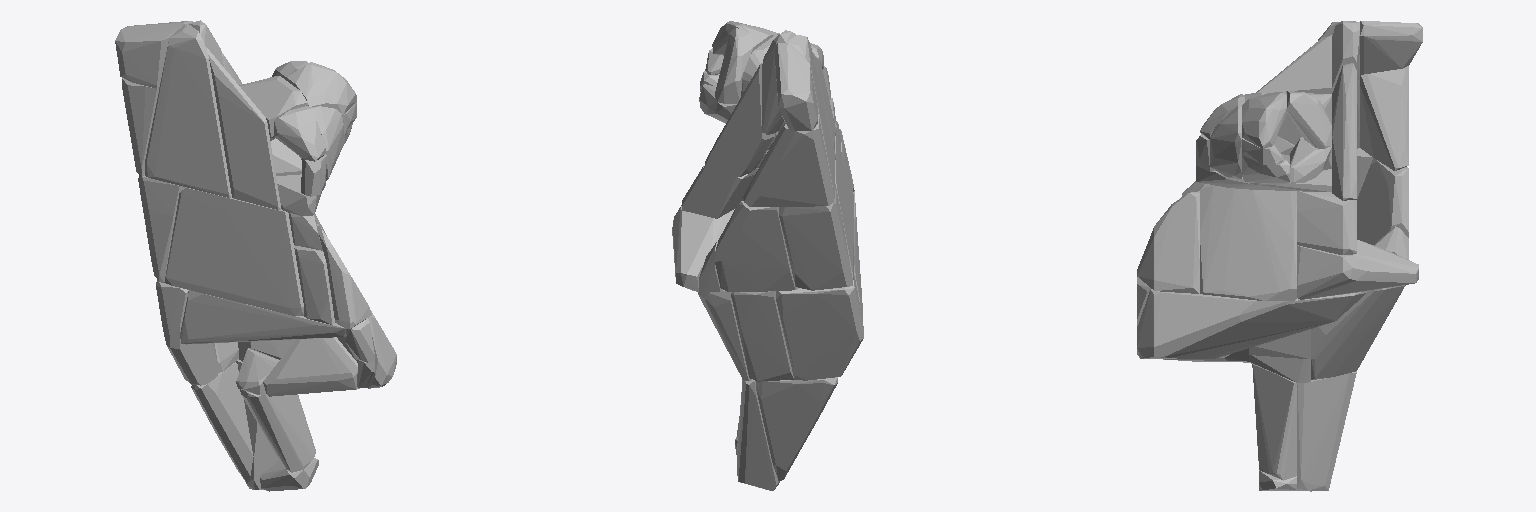
--- Facts derived from the render (not from the file) ---
Views: 3 orthographic renders of the robot side by side, from view 1: azimuth 30°, elevation 25°; view 2: azimuth 150°, elevation 25°; view 3: azimuth 270°, elevation 25°.
Robot: root — 42 links, 41 joints (41 fixed); root link link_nozzle_vhacd_convex_0; default pose: all joints at 0.
Visible links, largest first — view 1: link_nozzle_vhacd_convex_10, link_nozzle_vhacd_convex_6, link_nozzle_vhacd_convex_16, link_nozzle_vhacd_convex_20, link_nozzle_vhacd_convex_19, link_nozzle_vhacd_convex_2, link_nozzle_vhacd_convex_1, link_nozzle_vhacd_convex_8, link_nozzle_vhacd_convex_22, link_nozzle_vhacd_convex_11, link_nozzle_vhacd_convex_13, link_nozzle_vhacd_convex_23 (+16 smaller); view 2: link_nozzle_vhacd_convex_22, link_nozzle_vhacd_convex_12, link_nozzle_vhacd_convex_7, link_nozzle_vhacd_convex_11, link_nozzle_vhacd_convex_2, link_nozzle_vhacd_convex_32, link_nozzle_vhacd_convex_5, link_nozzle_vhacd_convex_3, link_nozzle_vhacd_convex_8, link_nozzle_vhacd_convex_26, link_nozzle_vhacd_convex_15, link_nozzle_vhacd_convex_40 (+8 smaller); view 3: link_nozzle_vhacd_convex_14, link_nozzle_vhacd_convex_4, link_nozzle_vhacd_convex_3, link_nozzle_vhacd_convex_26, link_nozzle_vhacd_convex_13, link_nozzle_vhacd_convex_33, link_nozzle_vhacd_convex_7, link_nozzle_vhacd_convex_1, link_nozzle_vhacd_convex_12, link_nozzle_vhacd_convex_15, link_nozzle_vhacd_convex_5, link_nozzle_vhacd_convex_8 (+15 smaller).
Link boxes in pixels (bbox=[...]): link_nozzle_vhacd_convex_10: bbox=[164, 188, 303, 315]; link_nozzle_vhacd_convex_6: bbox=[145, 24, 231, 197]; link_nozzle_vhacd_convex_16: bbox=[205, 46, 280, 209]; link_nozzle_vhacd_convex_20: bbox=[180, 290, 346, 344]; link_nozzle_vhacd_convex_19: bbox=[263, 337, 359, 396]; link_nozzle_vhacd_convex_2: bbox=[191, 362, 253, 482]; link_nozzle_vhacd_convex_1: bbox=[240, 389, 315, 472]; link_nozzle_vhacd_convex_8: bbox=[115, 21, 192, 88]; link_nozzle_vhacd_convex_22: bbox=[156, 280, 218, 385]; link_nozzle_vhacd_convex_11: bbox=[138, 174, 186, 282]; link_nozzle_vhacd_convex_13: bbox=[316, 224, 371, 328]; link_nozzle_vhacd_convex_23: bbox=[294, 245, 334, 324]; link_nozzle_vhacd_convex_22: bbox=[776, 275, 863, 380]; link_nozzle_vhacd_convex_12: bbox=[715, 201, 797, 291]; link_nozzle_vhacd_convex_7: bbox=[743, 113, 833, 206]; link_nozzle_vhacd_convex_11: bbox=[779, 184, 852, 290]; link_nozzle_vhacd_convex_2: bbox=[756, 377, 837, 480]; link_nozzle_vhacd_convex_32: bbox=[731, 291, 793, 381]; link_nozzle_vhacd_convex_5: bbox=[704, 63, 774, 176]; link_nozzle_vhacd_convex_3: bbox=[737, 379, 779, 490]; link_nozzle_vhacd_convex_8: bbox=[775, 43, 817, 130]; link_nozzle_vhacd_convex_26: bbox=[672, 205, 734, 291]; link_nozzle_vhacd_convex_15: bbox=[682, 166, 758, 218]; link_nozzle_vhacd_convex_40: bbox=[715, 28, 760, 103]; link_nozzle_vhacd_convex_14: bbox=[1200, 184, 1296, 300]; link_nozzle_vhacd_convex_4: bbox=[1137, 289, 1366, 358]; link_nozzle_vhacd_convex_3: bbox=[1297, 371, 1356, 491]; link_nozzle_vhacd_convex_26: bbox=[1297, 240, 1418, 299]; link_nozzle_vhacd_convex_13: bbox=[1137, 191, 1199, 293]; link_nozzle_vhacd_convex_33: bbox=[1311, 285, 1405, 379]; link_nozzle_vhacd_convex_7: bbox=[1360, 66, 1408, 170]; link_nozzle_vhacd_convex_1: bbox=[1252, 364, 1296, 480]; link_nozzle_vhacd_convex_12: bbox=[1357, 158, 1408, 244]; link_nozzle_vhacd_convex_15: bbox=[1297, 191, 1356, 254]; link_nozzle_vhacd_convex_5: bbox=[1332, 63, 1356, 200]; link_nozzle_vhacd_convex_8: bbox=[1360, 21, 1422, 74].
Bounding box of the posed robot: 0.0462 × 0.0701 × 0.1223 m (x, y, z).
42 mesh visuals loaded from 42 distinct referenced files (42 OBJ).

URDF robot description (root):
<robot name="root"><link name="link_nozzle_vhacd_convex_0"><inertial><origin rpy="0 0 0" xyz="0 0 0" /><mass value="1.92E-07" /><inertia ixx="5.93E-10" ixy="-2.20E-13" ixz="7.51E-11" iyy="6.03E-10" iyz="3.66E-12" izz="1.24E-11" /></inertial><visual><origin rpy="0 0 0" xyz="0 0 0" /><geometry><mesh filename="package://nozzle/nozzle_vhacd_convex_0.obj" /></geometry><material name=""><color rgba="0.75 0.75 0.75 1" /></material></visual><collision><origin rpy="0 0 0" xyz="0 0 0" /><geometry><mesh filename="package://nozzle/nozzle_vhacd_convex_0.obj" /></geometry></collision></link><link name="link_nozzle_vhacd_convex_1"><inertial><origin rpy="0 0 0" xyz="0 0 0" /><mass value="9.36E-07" /><inertia ixx="1.54E-09" ixy="-3.84E-12" ixz="1.42E-10" iyy="1.56E-09" iyz="-1.34E-11" izz="3.57E-11" /></inertial><visual><origin rpy="0 0 0" xyz="0 0 0" /><geometry><mesh filename="package://nozzle/nozzle_vhacd_convex_1.obj" /></geometry><material name=""><color rgba="0.75 0.75 0.75 1" /></material></visual><collision><origin rpy="0 0 0" xyz="0 0 0" /><geometry><mesh filename="package://nozzle/nozzle_vhacd_convex_1.obj" /></geometry></collision></link><joint name="link_nozzle_vhacd_convex_1_joint" type="fixed"><origin rpy="0 0 0" xyz="0 0 0" /><parent link="link_nozzle_vhacd_convex_0" /><child link="link_nozzle_vhacd_convex_1" /></joint><link name="link_nozzle_vhacd_convex_2"><inertial><origin rpy="0 0 0" xyz="0 0 0" /><mass value="6.32E-07" /><inertia ixx="1.02E-09" ixy="3.33E-11" ixz="-1.45E-10" iyy="9.98E-10" iyz="2.14E-10" izz="8.87E-11" /></inertial><visual><origin rpy="0 0 0" xyz="0 0 0" /><geometry><mesh filename="package://nozzle/nozzle_vhacd_convex_2.obj" /></geometry><material name=""><color rgba="0.75 0.75 0.75 1" /></material></visual><collision><origin rpy="0 0 0" xyz="0 0 0" /><geometry><mesh filename="package://nozzle/nozzle_vhacd_convex_2.obj" /></geometry></collision></link><joint name="link_nozzle_vhacd_convex_2_joint" type="fixed"><origin rpy="0 0 0" xyz="0 0 0" /><parent link="link_nozzle_vhacd_convex_1" /><child link="link_nozzle_vhacd_convex_2" /></joint><link name="link_nozzle_vhacd_convex_3"><inertial><origin rpy="0 0 0" xyz="0 0 0" /><mass value="1.14E-06" /><inertia ixx="2.33E-09" ixy="-3.36E-11" ixz="1.79E-10" iyy="2.25E-09" iyz="4.42E-10" izz="1.29E-10" /></inertial><visual><origin rpy="0 0 0" xyz="0 0 0" /><geometry><mesh filename="package://nozzle/nozzle_vhacd_convex_3.obj" /></geometry><material name=""><color rgba="0.75 0.75 0.75 1" /></material></visual><collision><origin rpy="0 0 0" xyz="0 0 0" /><geometry><mesh filename="package://nozzle/nozzle_vhacd_convex_3.obj" /></geometry></collision></link><joint name="link_nozzle_vhacd_convex_3_joint" type="fixed"><origin rpy="0 0 0" xyz="0 0 0" /><parent link="link_nozzle_vhacd_convex_2" /><child link="link_nozzle_vhacd_convex_3" /></joint><link name="link_nozzle_vhacd_convex_4"><inertial><origin rpy="0 0 0" xyz="0 0 0" /><mass value="1.86E-06" /><inertia ixx="8.47E-10" ixy="3.40E-10" ixz="2.40E-10" iyy="5.54E-10" iyz="-2.97E-10" izz="9.62E-10" /></inertial><visual><origin rpy="0 0 0" xyz="0 0 0" /><geometry><mesh filename="package://nozzle/nozzle_vhacd_convex_4.obj" /></geometry><material name=""><color rgba="0.75 0.75 0.75 1" /></material></visual><collision><origin rpy="0 0 0" xyz="0 0 0" /><geometry><mesh filename="package://nozzle/nozzle_vhacd_convex_4.obj" /></geometry></collision></link><joint name="link_nozzle_vhacd_convex_4_joint" type="fixed"><origin rpy="0 0 0" xyz="0 0 0" /><parent link="link_nozzle_vhacd_convex_3" /><child link="link_nozzle_vhacd_convex_4" /></joint><link name="link_nozzle_vhacd_convex_5"><inertial><origin rpy="0 0 0" xyz="0 0 0" /><mass value="5.53E-07" /><inertia ixx="7.90E-10" ixy="-1.98E-11" ixz="-3.11E-11" iyy="6.54E-10" iyz="-2.99E-10" izz="1.56E-10" /></inertial><visual><origin rpy="0 0 0" xyz="0 0 0" /><geometry><mesh filename="package://nozzle/nozzle_vhacd_convex_5.obj" /></geometry><material name=""><color rgba="0.75 0.75 0.75 1" /></material></visual><collision><origin rpy="0 0 0" xyz="0 0 0" /><geometry><mesh filename="package://nozzle/nozzle_vhacd_convex_5.obj" /></geometry></collision></link><joint name="link_nozzle_vhacd_convex_5_joint" type="fixed"><origin rpy="0 0 0" xyz="0 0 0" /><parent link="link_nozzle_vhacd_convex_4" /><child link="link_nozzle_vhacd_convex_5" /></joint><link name="link_nozzle_vhacd_convex_6"><inertial><origin rpy="0 0 0" xyz="0 0 0" /><mass value="1.13E-06" /><inertia ixx="1.94E-09" ixy="2.21E-10" ixz="5.98E-10" iyy="1.96E-09" iyz="-5.85E-10" izz="4.61E-10" /></inertial><visual><origin rpy="0 0 0" xyz="0 0 0" /><geometry><mesh filename="package://nozzle/nozzle_vhacd_convex_6.obj" /></geometry><material name=""><color rgba="0.75 0.75 0.75 1" /></material></visual><collision><origin rpy="0 0 0" xyz="0 0 0" /><geometry><mesh filename="package://nozzle/nozzle_vhacd_convex_6.obj" /></geometry></collision></link><joint name="link_nozzle_vhacd_convex_6_joint" type="fixed"><origin rpy="0 0 0" xyz="0 0 0" /><parent link="link_nozzle_vhacd_convex_5" /><child link="link_nozzle_vhacd_convex_6" /></joint><link name="link_nozzle_vhacd_convex_7"><inertial><origin rpy="0 0 0" xyz="0 0 0" /><mass value="1.11E-06" /><inertia ixx="2.03E-09" ixy="4.49E-10" ixz="6.05E-10" iyy="1.60E-09" iyz="-9.54E-10" izz="1.04E-09" /></inertial><visual><origin rpy="0 0 0" xyz="0 0 0" /><geometry><mesh filename="package://nozzle/nozzle_vhacd_convex_7.obj" /></geometry><material name=""><color rgba="0.75 0.75 0.75 1" /></material></visual><collision><origin rpy="0 0 0" xyz="0 0 0" /><geometry><mesh filename="package://nozzle/nozzle_vhacd_convex_7.obj" /></geometry></collision></link><joint name="link_nozzle_vhacd_convex_7_joint" type="fixed"><origin rpy="0 0 0" xyz="0 0 0" /><parent link="link_nozzle_vhacd_convex_6" /><child link="link_nozzle_vhacd_convex_7" /></joint><link name="link_nozzle_vhacd_convex_8"><inertial><origin rpy="0 0 0" xyz="0 0 0" /><mass value="6.04E-07" /><inertia ixx="2.04E-09" ixy="2.68E-10" ixz="5.19E-10" iyy="1.79E-09" iyz="-8.14E-10" izz="5.97E-10" /></inertial><visual><origin rpy="0 0 0" xyz="0 0 0" /><geometry><mesh filename="package://nozzle/nozzle_vhacd_convex_8.obj" /></geometry><material name=""><color rgba="0.75 0.75 0.75 1" /></material></visual><collision><origin rpy="0 0 0" xyz="0 0 0" /><geometry><mesh filename="package://nozzle/nozzle_vhacd_convex_8.obj" /></geometry></collision></link><joint name="link_nozzle_vhacd_convex_8_joint" type="fixed"><origin rpy="0 0 0" xyz="0 0 0" /><parent link="link_nozzle_vhacd_convex_7" /><child link="link_nozzle_vhacd_convex_8" /></joint><link name="link_nozzle_vhacd_convex_9"><inertial><origin rpy="0 0 0" xyz="0 0 0" /><mass value="8.02E-07" /><inertia ixx="5.82E-10" ixy="3.15E-12" ixz="-6.39E-11" iyy="5.37E-10" iyz="5.87E-11" izz="8.17E-11" /></inertial><visual><origin rpy="0 0 0" xyz="0 0 0" /><geometry><mesh filename="package://nozzle/nozzle_vhacd_convex_9.obj" /></geometry><material name=""><color rgba="0.75 0.75 0.75 1" /></material></visual><collision><origin rpy="0 0 0" xyz="0 0 0" /><geometry><mesh filename="package://nozzle/nozzle_vhacd_convex_9.obj" /></geometry></collision></link><joint name="link_nozzle_vhacd_convex_9_joint" type="fixed"><origin rpy="0 0 0" xyz="0 0 0" /><parent link="link_nozzle_vhacd_convex_8" /><child link="link_nozzle_vhacd_convex_9" /></joint><link name="link_nozzle_vhacd_convex_10"><inertial><origin rpy="0 0 0" xyz="0 0 0" /><mass value="1.57E-06" /><inertia ixx="3.54E-10" ixy="-9.72E-13" ixz="1.57E-10" iyy="4.45E-10" iyz="3.57E-11" izz="3.23E-10" /></inertial><visual><origin rpy="0 0 0" xyz="0 0 0" /><geometry><mesh filename="package://nozzle/nozzle_vhacd_convex_10.obj" /></geometry><material name=""><color rgba="0.75 0.75 0.75 1" /></material></visual><collision><origin rpy="0 0 0" xyz="0 0 0" /><geometry><mesh filename="package://nozzle/nozzle_vhacd_convex_10.obj" /></geometry></collision></link><joint name="link_nozzle_vhacd_convex_10_joint" type="fixed"><origin rpy="0 0 0" xyz="0 0 0" /><parent link="link_nozzle_vhacd_convex_9" /><child link="link_nozzle_vhacd_convex_10" /></joint><link name="link_nozzle_vhacd_convex_11"><inertial><origin rpy="0 0 0" xyz="0 0 0" /><mass value="1.07E-06" /><inertia ixx="5.16E-10" ixy="3.12E-10" ixz="2.20E-10" iyy="5.36E-10" iyz="-2.22E-10" izz="6.53E-10" /></inertial><visual><origin rpy="0 0 0" xyz="0 0 0" /><geometry><mesh filename="package://nozzle/nozzle_vhacd_convex_11.obj" /></geometry><material name=""><color rgba="0.75 0.75 0.75 1" /></material></visual><collision><origin rpy="0 0 0" xyz="0 0 0" /><geometry><mesh filename="package://nozzle/nozzle_vhacd_convex_11.obj" /></geometry></collision></link><joint name="link_nozzle_vhacd_convex_11_joint" type="fixed"><origin rpy="0 0 0" xyz="0 0 0" /><parent link="link_nozzle_vhacd_convex_10" /><child link="link_nozzle_vhacd_convex_11" /></joint><link name="link_nozzle_vhacd_convex_12"><inertial><origin rpy="0 0 0" xyz="0 0 0" /><mass value="8.89E-07" /><inertia ixx="6.86E-10" ixy="1.37E-10" ixz="5.74E-11" iyy="1.66E-10" iyz="-2.15E-10" izz="6.21E-10" /></inertial><visual><origin rpy="0 0 0" xyz="0 0 0" /><geometry><mesh filename="package://nozzle/nozzle_vhacd_convex_12.obj" /></geometry><material name=""><color rgba="0.75 0.75 0.75 1" /></material></visual><collision><origin rpy="0 0 0" xyz="0 0 0" /><geometry><mesh filename="package://nozzle/nozzle_vhacd_convex_12.obj" /></geometry></collision></link><joint name="link_nozzle_vhacd_convex_12_joint" type="fixed"><origin rpy="0 0 0" xyz="0 0 0" /><parent link="link_nozzle_vhacd_convex_11" /><child link="link_nozzle_vhacd_convex_12" /></joint><link name="link_nozzle_vhacd_convex_13"><inertial><origin rpy="0 0 0" xyz="0 0 0" /><mass value="6.52E-07" /><inertia ixx="4.73E-10" ixy="9.48E-11" ixz="-1.46E-11" iyy="5.98E-11" iyz="8.13E-11" izz="4.65E-10" /></inertial><visual><origin rpy="0 0 0" xyz="0 0 0" /><geometry><mesh filename="package://nozzle/nozzle_vhacd_convex_13.obj" /></geometry><material name=""><color rgba="0.75 0.75 0.75 1" /></material></visual><collision><origin rpy="0 0 0" xyz="0 0 0" /><geometry><mesh filename="package://nozzle/nozzle_vhacd_convex_13.obj" /></geometry></collision></link><joint name="link_nozzle_vhacd_convex_13_joint" type="fixed"><origin rpy="0 0 0" xyz="0 0 0" /><parent link="link_nozzle_vhacd_convex_12" /><child link="link_nozzle_vhacd_convex_13" /></joint><link name="link_nozzle_vhacd_convex_14"><inertial><origin rpy="0 0 0" xyz="0 0 0" /><mass value="1.79E-06" /><inertia ixx="3.94E-10" ixy="8.70E-11" ixz="-1.04E-10" iyy="3.86E-10" iyz="1.06E-10" izz="3.03E-10" /></inertial><visual><origin rpy="0 0 0" xyz="0 0 0" /><geometry><mesh filename="package://nozzle/nozzle_vhacd_convex_14.obj" /></geometry><material name=""><color rgba="0.75 0.75 0.75 1" /></material></visual><collision><origin rpy="0 0 0" xyz="0 0 0" /><geometry><mesh filename="package://nozzle/nozzle_vhacd_convex_14.obj" /></geometry></collision></link><joint name="link_nozzle_vhacd_convex_14_joint" type="fixed"><origin rpy="0 0 0" xyz="0 0 0" /><parent link="link_nozzle_vhacd_convex_13" /><child link="link_nozzle_vhacd_convex_14" /></joint><link name="link_nozzle_vhacd_convex_15"><inertial><origin rpy="0 0 0" xyz="0 0 0" /><mass value="7.35E-07" /><inertia ixx="3.35E-10" ixy="-8.61E-11" ixz="-1.08E-10" iyy="2.83E-10" iyz="-1.50E-10" izz="1.94E-10" /></inertial><visual><origin rpy="0 0 0" xyz="0 0 0" /><geometry><mesh filename="package://nozzle/nozzle_vhacd_convex_15.obj" /></geometry><material name=""><color rgba="0.75 0.75 0.75 1" /></material></visual><collision><origin rpy="0 0 0" xyz="0 0 0" /><geometry><mesh filename="package://nozzle/nozzle_vhacd_convex_15.obj" /></geometry></collision></link><joint name="link_nozzle_vhacd_convex_15_joint" type="fixed"><origin rpy="0 0 0" xyz="0 0 0" /><parent link="link_nozzle_vhacd_convex_14" /><child link="link_nozzle_vhacd_convex_15" /></joint><link name="link_nozzle_vhacd_convex_16"><inertial><origin rpy="0 0 0" xyz="0 0 0" /><mass value="1.22E-06" /><inertia ixx="1.76E-09" ixy="3.00E-11" ixz="3.07E-10" iyy="1.77E-09" iyz="-1.67E-10" izz="1.14E-10" /></inertial><visual><origin rpy="0 0 0" xyz="0 0 0" /><geometry><mesh filename="package://nozzle/nozzle_vhacd_convex_16.obj" /></geometry><material name=""><color rgba="0.75 0.75 0.75 1" /></material></visual><collision><origin rpy="0 0 0" xyz="0 0 0" /><geometry><mesh filename="package://nozzle/nozzle_vhacd_convex_16.obj" /></geometry></collision></link><joint name="link_nozzle_vhacd_convex_16_joint" type="fixed"><origin rpy="0 0 0" xyz="0 0 0" /><parent link="link_nozzle_vhacd_convex_15" /><child link="link_nozzle_vhacd_convex_16" /></joint><link name="link_nozzle_vhacd_convex_17"><inertial><origin rpy="0 0 0" xyz="0 0 0" /><mass value="3.55E-07" /><inertia ixx="9.43E-10" ixy="4.05E-11" ixz="1.22E-10" iyy="8.66E-10" iyz="-2.81E-10" izz="1.14E-10" /></inertial><visual><origin rpy="0 0 0" xyz="0 0 0" /><geometry><mesh filename="package://nozzle/nozzle_vhacd_convex_17.obj" /></geometry><material name=""><color rgba="0.75 0.75 0.75 1" /></material></visual><collision><origin rpy="0 0 0" xyz="0 0 0" /><geometry><mesh filename="package://nozzle/nozzle_vhacd_convex_17.obj" /></geometry></collision></link><joint name="link_nozzle_vhacd_convex_17_joint" type="fixed"><origin rpy="0 0 0" xyz="0 0 0" /><parent link="link_nozzle_vhacd_convex_16" /><child link="link_nozzle_vhacd_convex_17" /></joint><link name="link_nozzle_vhacd_convex_18"><inertial><origin rpy="0 0 0" xyz="0 0 0" /><mass value="2.72E-08" /><inertia ixx="3.44E-11" ixy="7.81E-12" ixz="3.93E-12" iyy="9.26E-12" iyz="-1.37E-11" izz="2.96E-11" /></inertial><visual><origin rpy="0 0 0" xyz="0 0 0" /><geometry><mesh filename="package://nozzle/nozzle_vhacd_convex_18.obj" /></geometry><material name=""><color rgba="0.75 0.75 0.75 1" /></material></visual><collision><origin rpy="0 0 0" xyz="0 0 0" /><geometry><mesh filename="package://nozzle/nozzle_vhacd_convex_18.obj" /></geometry></collision></link><joint name="link_nozzle_vhacd_convex_18_joint" type="fixed"><origin rpy="0 0 0" xyz="0 0 0" /><parent link="link_nozzle_vhacd_convex_17" /><child link="link_nozzle_vhacd_convex_18" /></joint><link name="link_nozzle_vhacd_convex_19"><inertial><origin rpy="0 0 0" xyz="0 0 0" /><mass value="6.20E-07" /><inertia ixx="4.25E-10" ixy="5.09E-11" ixz="5.71E-11" iyy="2.88E-10" iyz="-1.91E-10" izz="1.83E-10" /></inertial><visual><origin rpy="0 0 0" xyz="0 0 0" /><geometry><mesh filename="package://nozzle/nozzle_vhacd_convex_19.obj" /></geometry><material name=""><color rgba="0.75 0.75 0.75 1" /></material></visual><collision><origin rpy="0 0 0" xyz="0 0 0" /><geometry><mesh filename="package://nozzle/nozzle_vhacd_convex_19.obj" /></geometry></collision></link><joint name="link_nozzle_vhacd_convex_19_joint" type="fixed"><origin rpy="0 0 0" xyz="0 0 0" /><parent link="link_nozzle_vhacd_convex_18" /><child link="link_nozzle_vhacd_convex_19" /></joint><link name="link_nozzle_vhacd_convex_20"><inertial><origin rpy="0 0 0" xyz="0 0 0" /><mass value="6.17E-07" /><inertia ixx="1.45E-10" ixy="-2.86E-11" ixz="-5.16E-11" iyy="1.26E-10" iyz="-3.17E-11" izz="1.98E-10" /></inertial><visual><origin rpy="0 0 0" xyz="0 0 0" /><geometry><mesh filename="package://nozzle/nozzle_vhacd_convex_20.obj" /></geometry><material name=""><color rgba="0.75 0.75 0.75 1" /></material></visual><collision><origin rpy="0 0 0" xyz="0 0 0" /><geometry><mesh filename="package://nozzle/nozzle_vhacd_convex_20.obj" /></geometry></collision></link><joint name="link_nozzle_vhacd_convex_20_joint" type="fixed"><origin rpy="0 0 0" xyz="0 0 0" /><parent link="link_nozzle_vhacd_convex_19" /><child link="link_nozzle_vhacd_convex_20" /></joint><link name="link_nozzle_vhacd_convex_21"><inertial><origin rpy="0 0 0" xyz="0 0 0" /><mass value="4.05E-07" /><inertia ixx="8.55E-10" ixy="1.86E-11" ixz="-2.43E-10" iyy="9.23E-10" iyz="6.35E-11" izz="8.40E-11" /></inertial><visual><origin rpy="0 0 0" xyz="0 0 0" /><geometry><mesh filename="package://nozzle/nozzle_vhacd_convex_21.obj" /></geometry><material name=""><color rgba="0.75 0.75 0.75 1" /></material></visual><collision><origin rpy="0 0 0" xyz="0 0 0" /><geometry><mesh filename="package://nozzle/nozzle_vhacd_convex_21.obj" /></geometry></collision></link><joint name="link_nozzle_vhacd_convex_21_joint" type="fixed"><origin rpy="0 0 0" xyz="0 0 0" /><parent link="link_nozzle_vhacd_convex_20" /><child link="link_nozzle_vhacd_convex_21" /></joint><link name="link_nozzle_vhacd_convex_22"><inertial><origin rpy="0 0 0" xyz="0 0 0" /><mass value="1.24E-06" /><inertia ixx="4.40E-10" ixy="1.93E-10" ixz="-2.46E-10" iyy="5.90E-10" iyz="1.64E-10" izz="4.61E-10" /></inertial><visual><origin rpy="0 0 0" xyz="0 0 0" /><geometry><mesh filename="package://nozzle/nozzle_vhacd_convex_22.obj" /></geometry><material name=""><color rgba="0.75 0.75 0.75 1" /></material></visual><collision><origin rpy="0 0 0" xyz="0 0 0" /><geometry><mesh filename="package://nozzle/nozzle_vhacd_convex_22.obj" /></geometry></collision></link><joint name="link_nozzle_vhacd_convex_22_joint" type="fixed"><origin rpy="0 0 0" xyz="0 0 0" /><parent link="link_nozzle_vhacd_convex_21" /><child link="link_nozzle_vhacd_convex_22" /></joint><link name="link_nozzle_vhacd_convex_23"><inertial><origin rpy="0 0 0" xyz="0 0 0" /><mass value="2.57E-07" /><inertia ixx="1.43E-10" ixy="-2.98E-12" ixz="1.04E-12" iyy="1.74E-11" iyz="3.43E-11" izz="1.26E-10" /></inertial><visual><origin rpy="0 0 0" xyz="0 0 0" /><geometry><mesh filename="package://nozzle/nozzle_vhacd_convex_23.obj" /></geometry><material name=""><color rgba="0.75 0.75 0.75 1" /></material></visual><collision><origin rpy="0 0 0" xyz="0 0 0" /><geometry><mesh filename="package://nozzle/nozzle_vhacd_convex_23.obj" /></geometry></collision></link><joint name="link_nozzle_vhacd_convex_23_joint" type="fixed"><origin rpy="0 0 0" xyz="0 0 0" /><parent link="link_nozzle_vhacd_convex_22" /><child link="link_nozzle_vhacd_convex_23" /></joint><link name="link_nozzle_vhacd_convex_24"><inertial><origin rpy="0 0 0" xyz="0 0 0" /><mass value="2.45E-07" /><inertia ixx="1.37E-10" ixy="-1.27E-12" ixz="1.87E-12" iyy="9.29E-11" iyz="5.51E-11" izz="4.52E-11" /></inertial><visual><origin rpy="0 0 0" xyz="0 0 0" /><geometry><mesh filename="package://nozzle/nozzle_vhacd_convex_24.obj" /></geometry><material name=""><color rgba="0.75 0.75 0.75 1" /></material></visual><collision><origin rpy="0 0 0" xyz="0 0 0" /><geometry><mesh filename="package://nozzle/nozzle_vhacd_convex_24.obj" /></geometry></collision></link><joint name="link_nozzle_vhacd_convex_24_joint" type="fixed"><origin rpy="0 0 0" xyz="0 0 0" /><parent link="link_nozzle_vhacd_convex_23" /><child link="link_nozzle_vhacd_convex_24" /></joint><link name="link_nozzle_vhacd_convex_25"><inertial><origin rpy="0 0 0" xyz="0 0 0" /><mass value="1.83E-07" /><inertia ixx="1.28E-10" ixy="-1.75E-11" ixz="-1.37E-12" iyy="5.25E-12" iyz="-1.14E-11" izz="1.28E-10" /></inertial><visual><origin rpy="0 0 0" xyz="0 0 0" /><geometry><mesh filename="package://nozzle/nozzle_vhacd_convex_25.obj" /></geometry><material name=""><color rgba="0.75 0.75 0.75 1" /></material></visual><collision><origin rpy="0 0 0" xyz="0 0 0" /><geometry><mesh filename="package://nozzle/nozzle_vhacd_convex_25.obj" /></geometry></collision></link><joint name="link_nozzle_vhacd_convex_25_joint" type="fixed"><origin rpy="0 0 0" xyz="0 0 0" /><parent link="link_nozzle_vhacd_convex_24" /><child link="link_nozzle_vhacd_convex_25" /></joint><link name="link_nozzle_vhacd_convex_26"><inertial><origin rpy="0 0 0" xyz="0 0 0" /><mass value="1.47E-06" /><inertia ixx="5.06E-10" ixy="-2.77E-10" ixz="-7.24E-11" iyy="2.64E-10" iyz="-9.00E-11" izz="6.91E-10" /></inertial><visual><origin rpy="0 0 0" xyz="0 0 0" /><geometry><mesh filename="package://nozzle/nozzle_vhacd_convex_26.obj" /></geometry><material name=""><color rgba="0.75 0.75 0.75 1" /></material></visual><collision><origin rpy="0 0 0" xyz="0 0 0" /><geometry><mesh filename="package://nozzle/nozzle_vhacd_convex_26.obj" /></geometry></collision></link><joint name="link_nozzle_vhacd_convex_26_joint" type="fixed"><origin rpy="0 0 0" xyz="0 0 0" /><parent link="link_nozzle_vhacd_convex_25" /><child link="link_nozzle_vhacd_convex_26" /></joint><link name="link_nozzle_vhacd_convex_27"><inertial><origin rpy="0 0 0" xyz="0 0 0" /><mass value="2.62E-07" /><inertia ixx="3.80E-10" ixy="3.02E-11" ixz="-9.27E-11" iyy="3.69E-10" iyz="1.11E-10" izz="6.44E-11" /></inertial><visual><origin rpy="0 0 0" xyz="0 0 0" /><geometry><mesh filename="package://nozzle/nozzle_vhacd_convex_27.obj" /></geometry><material name=""><color rgba="0.75 0.75 0.75 1" /></material></visual><collision><origin rpy="0 0 0" xyz="0 0 0" /><geometry><mesh filename="package://nozzle/nozzle_vhacd_convex_27.obj" /></geometry></collision></link><joint name="link_nozzle_vhacd_convex_27_joint" type="fixed"><origin rpy="0 0 0" xyz="0 0 0" /><parent link="link_nozzle_vhacd_convex_26" /><child link="link_nozzle_vhacd_convex_27" /></joint><link name="link_nozzle_vhacd_convex_28"><inertial><origin rpy="0 0 0" xyz="0 0 0" /><mass value="1.37E-07" /><inertia ixx="1.45E-10" ixy="3.14E-11" ixz="6.63E-12" iyy="1.44E-11" iyz="-2.83E-11" izz="1.46E-10" /></inertial><visual><origin rpy="0 0 0" xyz="0 0 0" /><geometry><mesh filename="package://nozzle/nozzle_vhacd_convex_28.obj" /></geometry><material name=""><color rgba="0.75 0.75 0.75 1" /></material></visual><collision><origin rpy="0 0 0" xyz="0 0 0" /><geometry><mesh filename="package://nozzle/nozzle_vhacd_convex_28.obj" /></geometry></collision></link><joint name="link_nozzle_vhacd_convex_28_joint" type="fixed"><origin rpy="0 0 0" xyz="0 0 0" /><parent link="link_nozzle_vhacd_convex_27" /><child link="link_nozzle_vhacd_convex_28" /></joint><link name="link_nozzle_vhacd_convex_29"><inertial><origin rpy="0 0 0" xyz="0 0 0" /><mass value="4.20E-08" /><inertia ixx="1.48E-11" ixy="6.43E-12" ixz="3.01E-12" iyy="6.48E-12" iyz="-4.71E-12" izz="1.58E-11" /></inertial><visual><origin rpy="0 0 0" xyz="0 0 0" /><geometry><mesh filename="package://nozzle/nozzle_vhacd_convex_29.obj" /></geometry><material name=""><color rgba="0.75 0.75 0.75 1" /></material></visual><collision><origin rpy="0 0 0" xyz="0 0 0" /><geometry><mesh filename="package://nozzle/nozzle_vhacd_convex_29.obj" /></geometry></collision></link><joint name="link_nozzle_vhacd_convex_29_joint" type="fixed"><origin rpy="0 0 0" xyz="0 0 0" /><parent link="link_nozzle_vhacd_convex_28" /><child link="link_nozzle_vhacd_convex_29" /></joint><link name="link_nozzle_vhacd_convex_30"><inertial><origin rpy="0 0 0" xyz="0 0 0" /><mass value="4.97E-07" /><inertia ixx="3.27E-10" ixy="-3.26E-12" ixz="1.06E-11" iyy="3.27E-10" iyz="7.79E-13" izz="1.63E-11" /></inertial><visual><origin rpy="0 0 0" xyz="0 0 0" /><geometry><mesh filename="package://nozzle/nozzle_vhacd_convex_30.obj" /></geometry><material name=""><color rgba="0.75 0.75 0.75 1" /></material></visual><collision><origin rpy="0 0 0" xyz="0 0 0" /><geometry><mesh filename="package://nozzle/nozzle_vhacd_convex_30.obj" /></geometry></collision></link><joint name="link_nozzle_vhacd_convex_30_joint" type="fixed"><origin rpy="0 0 0" xyz="0 0 0" /><parent link="link_nozzle_vhacd_convex_29" /><child link="link_nozzle_vhacd_convex_30" /></joint><link name="link_nozzle_vhacd_convex_31"><inertial><origin rpy="0 0 0" xyz="0 0 0" /><mass value="7.69E-07" /><inertia ixx="2.05E-10" ixy="-4.68E-12" ixz="6.09E-11" iyy="2.21E-10" iyz="1.32E-11" izz="4.67E-11" /></inertial><visual><origin rpy="0 0 0" xyz="0 0 0" /><geometry><mesh filename="package://nozzle/nozzle_vhacd_convex_31.obj" /></geometry><material name=""><color rgba="0.75 0.75 0.75 1" /></material></visual><collision><origin rpy="0 0 0" xyz="0 0 0" /><geometry><mesh filename="package://nozzle/nozzle_vhacd_convex_31.obj" /></geometry></collision></link><joint name="link_nozzle_vhacd_convex_31_joint" type="fixed"><origin rpy="0 0 0" xyz="0 0 0" /><parent link="link_nozzle_vhacd_convex_30" /><child link="link_nozzle_vhacd_convex_31" /></joint><link name="link_nozzle_vhacd_convex_32"><inertial><origin rpy="0 0 0" xyz="0 0 0" /><mass value="6.57E-07" /><inertia ixx="4.11E-10" ixy="4.97E-11" ixz="-4.51E-11" iyy="2.12E-10" iyz="1.67E-10" izz="2.33E-10" /></inertial><visual><origin rpy="0 0 0" xyz="0 0 0" /><geometry><mesh filename="package://nozzle/nozzle_vhacd_convex_32.obj" /></geometry><material name=""><color rgba="0.75 0.75 0.75 1" /></material></visual><collision><origin rpy="0 0 0" xyz="0 0 0" /><geometry><mesh filename="package://nozzle/nozzle_vhacd_convex_32.obj" /></geometry></collision></link><joint name="link_nozzle_vhacd_convex_32_joint" type="fixed"><origin rpy="0 0 0" xyz="0 0 0" /><parent link="link_nozzle_vhacd_convex_31" /><child link="link_nozzle_vhacd_convex_32" /></joint><link name="link_nozzle_vhacd_convex_33"><inertial><origin rpy="0 0 0" xyz="0 0 0" /><mass value="1.53E-06" /><inertia ixx="7.97E-10" ixy="-1.07E-10" ixz="7.99E-11" iyy="3.78E-10" iyz="3.06E-10" izz="5.00E-10" /></inertial><visual><origin rpy="0 0 0" xyz="0 0 0" /><geometry><mesh filename="package://nozzle/nozzle_vhacd_convex_33.obj" /></geometry><material name=""><color rgba="0.75 0.75 0.75 1" /></material></visual><collision><origin rpy="0 0 0" xyz="0 0 0" /><geometry><mesh filename="package://nozzle/nozzle_vhacd_convex_33.obj" /></geometry></collision></link><joint name="link_nozzle_vhacd_convex_33_joint" type="fixed"><origin rpy="0 0 0" xyz="0 0 0" /><parent link="link_nozzle_vhacd_convex_32" /><child link="link_nozzle_vhacd_convex_33" /></joint><link name="link_nozzle_vhacd_convex_34"><inertial><origin rpy="0 0 0" xyz="0 0 0" /><mass value="1.64E-07" /><inertia ixx="2.08E-10" ixy="9.50E-12" ixz="-1.97E-11" iyy="1.69E-10" iyz="8.23E-11" izz="4.48E-11" /></inertial><visual><origin rpy="0 0 0" xyz="0 0 0" /><geometry><mesh filename="package://nozzle/nozzle_vhacd_convex_34.obj" /></geometry><material name=""><color rgba="0.75 0.75 0.75 1" /></material></visual><collision><origin rpy="0 0 0" xyz="0 0 0" /><geometry><mesh filename="package://nozzle/nozzle_vhacd_convex_34.obj" /></geometry></collision></link><joint name="link_nozzle_vhacd_convex_34_joint" type="fixed"><origin rpy="0 0 0" xyz="0 0 0" /><parent link="link_nozzle_vhacd_convex_33" /><child link="link_nozzle_vhacd_convex_34" /></joint><link name="link_nozzle_vhacd_convex_35"><inertial><origin rpy="0 0 0" xyz="0 0 0" /><mass value="1.92E-07" /><inertia ixx="3.50E-10" ixy="6.66E-12" ixz="-2.09E-11" iyy="3.21E-10" iyz="9.71E-11" izz="3.37E-11" /></inertial><visual><origin rpy="0 0 0" xyz="0 0 0" /><geometry><mesh filename="package://nozzle/nozzle_vhacd_convex_35.obj" /></geometry><material name=""><color rgba="0.75 0.75 0.75 1" /></material></visual><collision><origin rpy="0 0 0" xyz="0 0 0" /><geometry><mesh filename="package://nozzle/nozzle_vhacd_convex_35.obj" /></geometry></collision></link><joint name="link_nozzle_vhacd_convex_35_joint" type="fixed"><origin rpy="0 0 0" xyz="0 0 0" /><parent link="link_nozzle_vhacd_convex_34" /><child link="link_nozzle_vhacd_convex_35" /></joint><link name="link_nozzle_vhacd_convex_36"><inertial><origin rpy="0 0 0" xyz="0 0 0" /><mass value="5.20E-07" /><inertia ixx="5.25E-10" ixy="-2.96E-12" ixz="-2.35E-11" iyy="5.08E-10" iyz="-6.51E-11" izz="2.76E-11" /></inertial><visual><origin rpy="0 0 0" xyz="0 0 0" /><geometry><mesh filename="package://nozzle/nozzle_vhacd_convex_36.obj" /></geometry><material name=""><color rgba="0.75 0.75 0.75 1" /></material></visual><collision><origin rpy="0 0 0" xyz="0 0 0" /><geometry><mesh filename="package://nozzle/nozzle_vhacd_convex_36.obj" /></geometry></collision></link><joint name="link_nozzle_vhacd_convex_36_joint" type="fixed"><origin rpy="0 0 0" xyz="0 0 0" /><parent link="link_nozzle_vhacd_convex_35" /><child link="link_nozzle_vhacd_convex_36" /></joint><link name="link_nozzle_vhacd_convex_37"><inertial><origin rpy="0 0 0" xyz="0 0 0" /><mass value="9.55E-07" /><inertia ixx="1.65E-09" ixy="-3.42E-12" ixz="-6.39E-11" iyy="1.62E-09" iyz="-1.01E-10" izz="4.74E-11" /></inertial><visual><origin rpy="0 0 0" xyz="0 0 0" /><geometry><mesh filename="package://nozzle/nozzle_vhacd_convex_37.obj" /></geometry><material name=""><color rgba="0.75 0.75 0.75 1" /></material></visual><collision><origin rpy="0 0 0" xyz="0 0 0" /><geometry><mesh filename="package://nozzle/nozzle_vhacd_convex_37.obj" /></geometry></collision></link><joint name="link_nozzle_vhacd_convex_37_joint" type="fixed"><origin rpy="0 0 0" xyz="0 0 0" /><parent link="link_nozzle_vhacd_convex_36" /><child link="link_nozzle_vhacd_convex_37" /></joint><link name="link_nozzle_vhacd_convex_38"><inertial><origin rpy="0 0 0" xyz="0 0 0" /><mass value="4.90E-07" /><inertia ixx="5.28E-10" ixy="1.90E-11" ixz="-2.24E-10" iyy="6.21E-10" iyz="4.73E-11" izz="1.12E-10" /></inertial><visual><origin rpy="0 0 0" xyz="0 0 0" /><geometry><mesh filename="package://nozzle/nozzle_vhacd_convex_38.obj" /></geometry><material name=""><color rgba="0.75 0.75 0.75 1" /></material></visual><collision><origin rpy="0 0 0" xyz="0 0 0" /><geometry><mesh filename="package://nozzle/nozzle_vhacd_convex_38.obj" /></geometry></collision></link><joint name="link_nozzle_vhacd_convex_38_joint" type="fixed"><origin rpy="0 0 0" xyz="0 0 0" /><parent link="link_nozzle_vhacd_convex_37" /><child link="link_nozzle_vhacd_convex_38" /></joint><link name="link_nozzle_vhacd_convex_39"><inertial><origin rpy="0 0 0" xyz="0 0 0" /><mass value="3.23E-07" /><inertia ixx="3.71E-10" ixy="-2.59E-11" ixz="-1.33E-10" iyy="4.09E-10" iyz="-7.14E-11" izz="7.00E-11" /></inertial><visual><origin rpy="0 0 0" xyz="0 0 0" /><geometry><mesh filename="package://nozzle/nozzle_vhacd_convex_39.obj" /></geometry><material name=""><color rgba="0.75 0.75 0.75 1" /></material></visual><collision><origin rpy="0 0 0" xyz="0 0 0" /><geometry><mesh filename="package://nozzle/nozzle_vhacd_convex_39.obj" /></geometry></collision></link><joint name="link_nozzle_vhacd_convex_39_joint" type="fixed"><origin rpy="0 0 0" xyz="0 0 0" /><parent link="link_nozzle_vhacd_convex_38" /><child link="link_nozzle_vhacd_convex_39" /></joint><link name="link_nozzle_vhacd_convex_40"><inertial><origin rpy="0 0 0" xyz="0 0 0" /><mass value="2.69E-07" /><inertia ixx="5.35E-10" ixy="-1.82E-11" ixz="-1.16E-10" iyy="5.47E-10" iyz="-8.00E-11" izz="4.19E-11" /></inertial><visual><origin rpy="0 0 0" xyz="0 0 0" /><geometry><mesh filename="package://nozzle/nozzle_vhacd_convex_40.obj" /></geometry><material name=""><color rgba="0.75 0.75 0.75 1" /></material></visual><collision><origin rpy="0 0 0" xyz="0 0 0" /><geometry><mesh filename="package://nozzle/nozzle_vhacd_convex_40.obj" /></geometry></collision></link><joint name="link_nozzle_vhacd_convex_40_joint" type="fixed"><origin rpy="0 0 0" xyz="0 0 0" /><parent link="link_nozzle_vhacd_convex_39" /><child link="link_nozzle_vhacd_convex_40" /></joint><link name="link_nozzle_vhacd_convex_41"><inertial><origin rpy="0 0 0" xyz="0 0 0" /><mass value="1.23E-07" /><inertia ixx="1.94E-10" ixy="1.05E-11" ixz="-8.31E-11" iyy="2.28E-10" iyz="2.55E-11" izz="4.17E-11" /></inertial><visual><origin rpy="0 0 0" xyz="0 0 0" /><geometry><mesh filename="package://nozzle/nozzle_vhacd_convex_41.obj" /></geometry><material name=""><color rgba="0.75 0.75 0.75 1" /></material></visual><collision><origin rpy="0 0 0" xyz="0 0 0" /><geometry><mesh filename="package://nozzle/nozzle_vhacd_convex_41.obj" /></geometry></collision></link><joint name="link_nozzle_vhacd_convex_41_joint" type="fixed"><origin rpy="0 0 0" xyz="0 0 0" /><parent link="link_nozzle_vhacd_convex_40" /><child link="link_nozzle_vhacd_convex_41" /></joint></robot>
